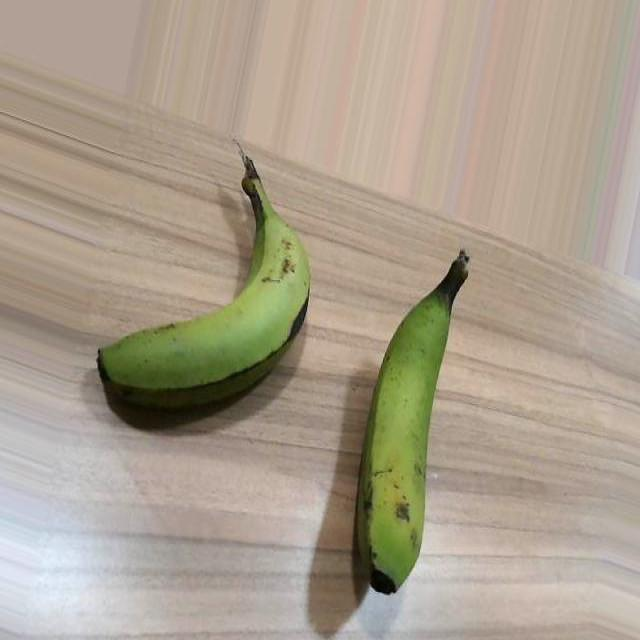Unripe: (96, 158, 311, 415), (357, 250, 472, 594)
